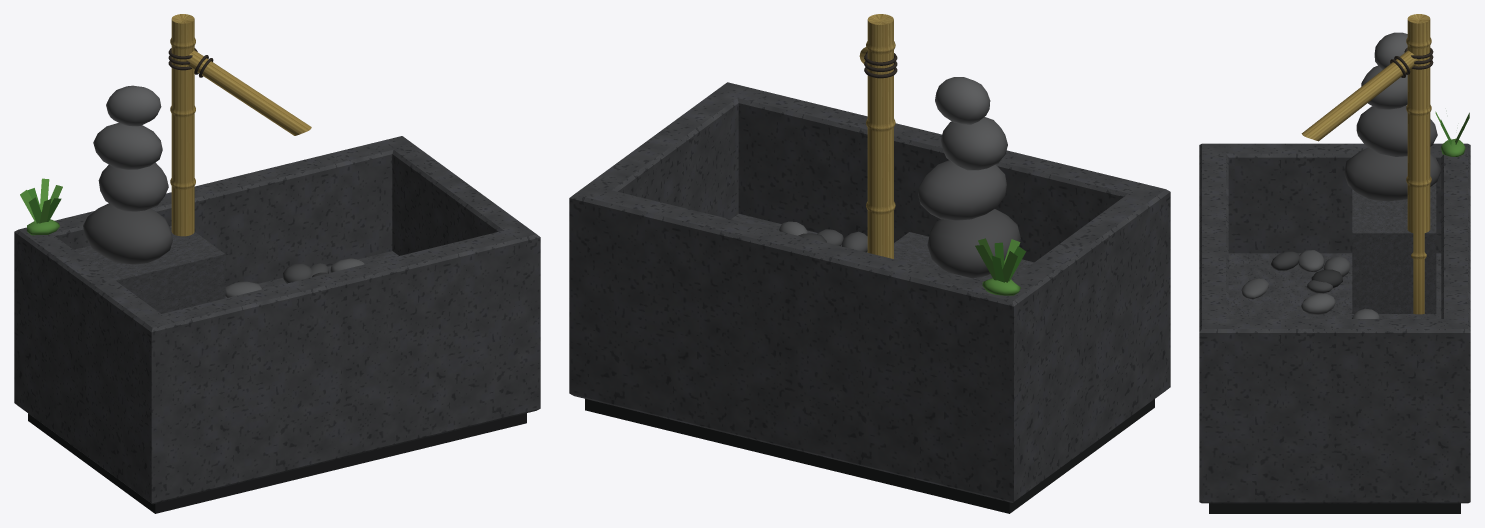
The model's file is Office_Garden_Zen_Fountain.glb.
3 views of the same model, side by side, from view 1: azimuth 30°, elevation 25°; view 2: azimuth 150°, elevation 25°; view 3: azimuth 270°, elevation 25° (orthographic). The views are drawn at different scales.
Parts seen in each view (by area): view 1: Basin_Walls, Zen_Cairn_Stones, Submerged_Ledge, Shadow_Plinth, Bamboo_Upright, Bamboo_Spout_Hollow, Moss_Fern_Tuft, River_Pebbles_Submerged; view 2: Basin_Walls, Zen_Cairn_Stones, Shadow_Plinth, Bamboo_Upright, Moss_Fern_Tuft, Submerged_Ledge, River_Pebbles_Submerged; view 3: Basin_Walls, Submerged_Ledge, Zen_Cairn_Stones, Basin_Floor, Bamboo_Upright, River_Pebbles_Submerged, Shadow_Plinth, Bamboo_Spout_Hollow, Moss_Fern_Tuft, Hemp_Twine_Lashing.
Boxes of the visible parts, left/top/right/bottom form: Basin_Walls: left=14, top=136, right=540, bottom=504; Zen_Cairn_Stones: left=83, top=85, right=172, bottom=264; Submerged_Ledge: left=74, top=226, right=225, bottom=313; Shadow_Plinth: left=28, top=413, right=526, bottom=513; Bamboo_Upright: left=170, top=14, right=195, bottom=236; Bamboo_Spout_Hollow: left=186, top=50, right=311, bottom=135; Moss_Fern_Tuft: left=20, top=178, right=62, bottom=235; River_Pebbles_Submerged: left=225, top=258, right=364, bottom=297; Basin_Walls: left=569, top=82, right=1170, bottom=502; Zen_Cairn_Stones: left=918, top=77, right=1020, bottom=278; Shadow_Plinth: left=585, top=399, right=1154, bottom=513; Bamboo_Upright: left=866, top=14, right=895, bottom=258; Moss_Fern_Tuft: left=975, top=238, right=1026, bottom=295; Submerged_Ledge: left=894, top=232, right=1033, bottom=281; River_Pebbles_Submerged: left=779, top=221, right=867, bottom=252; Basin_Walls: left=1199, top=143, right=1470, bottom=503; Submerged_Ledge: left=1352, top=183, right=1436, bottom=313; Zen_Cairn_Stones: left=1344, top=32, right=1441, bottom=201; Basin_Floor: left=1228, top=253, right=1441, bottom=318; Bamboo_Upright: left=1406, top=14, right=1431, bottom=314; River_Pebbles_Submerged: left=1241, top=250, right=1380, bottom=318; Shadow_Plinth: left=1209, top=503, right=1460, bottom=513; Bamboo_Spout_Hollow: left=1301, top=50, right=1417, bottom=141; Moss_Fern_Tuft: left=1435, top=111, right=1469, bottom=156; Hemp_Twine_Lashing: left=1390, top=47, right=1433, bottom=77.
Size of the model in its own units: 0.9 by 0.85 by 0.55.
Materials: 8 (2 with a texture image).
